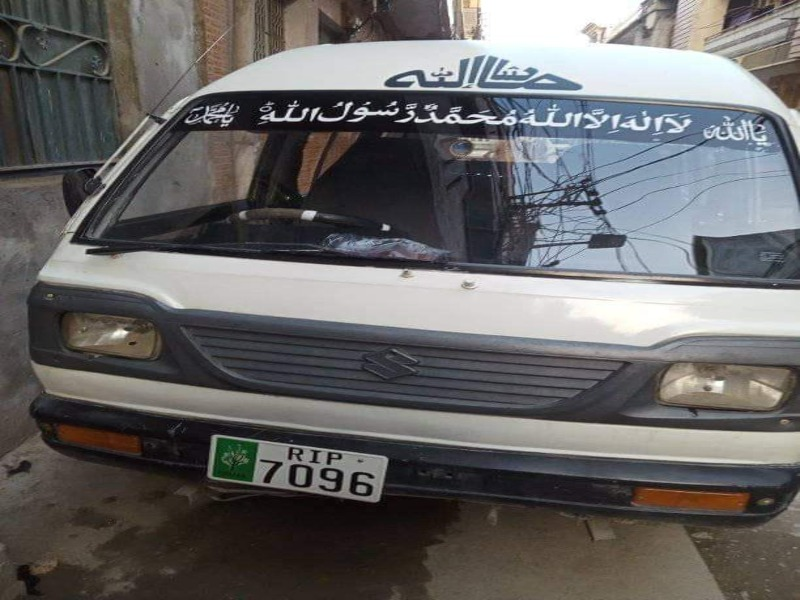License Plate: (203, 430, 389, 511)
